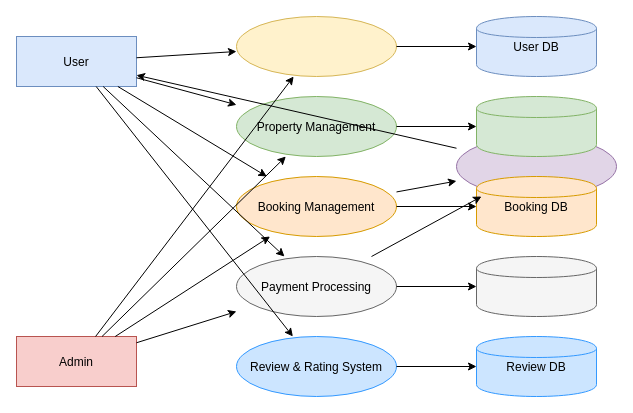
Image size: 633x413. Some labels were removed from this diagram. Each missing label, with the centre of its shape:
"Authentication Service" belongs at point 316,46.
"Notification System" belongs at point 536,166.
"Payment DB" belongs at point 536,286.
"Property DB" belongs at point 536,126.
